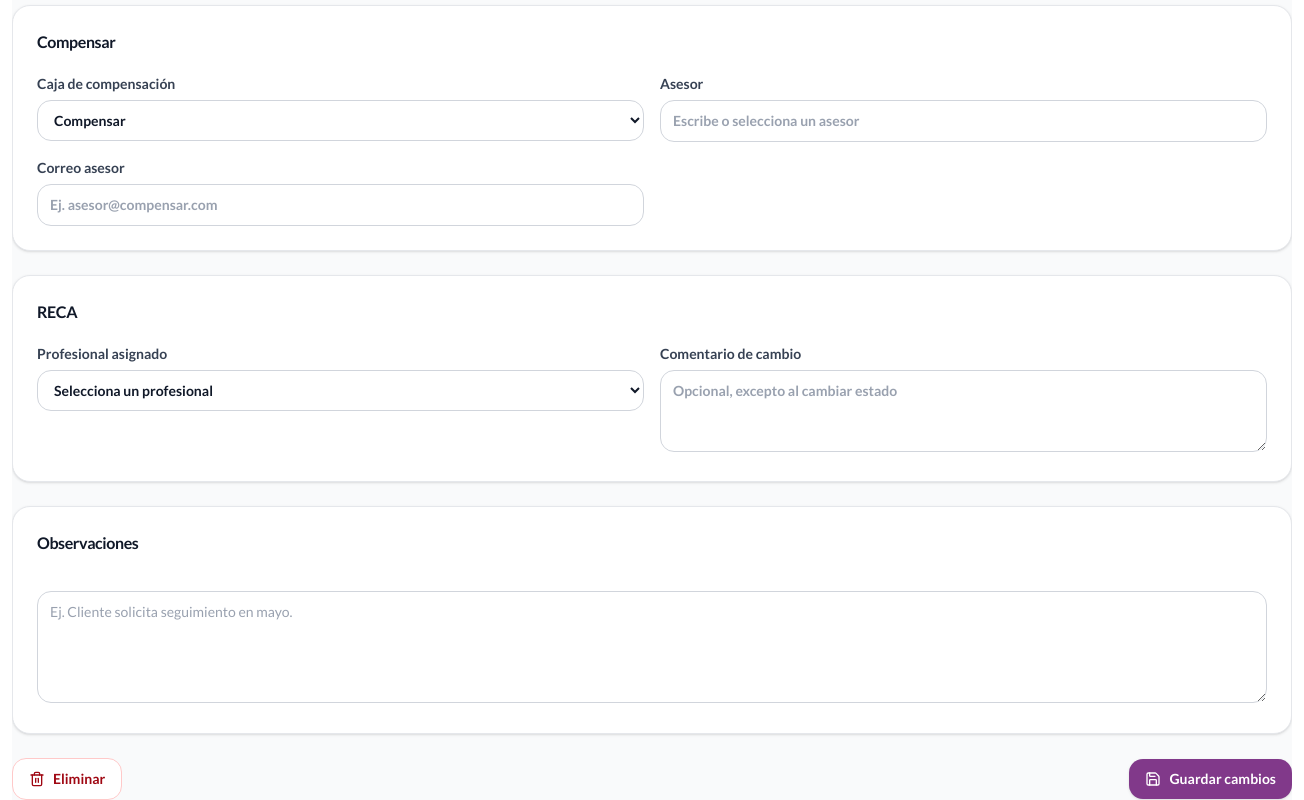
EmpresaForm › shows a non-blocking warning for incomplete legacy empresas in edit mode
(page scrolled)
In the text box named "Observaciones": x=652, y=647 [37,591,1267,703], type "Cliente solicita seguimiento."
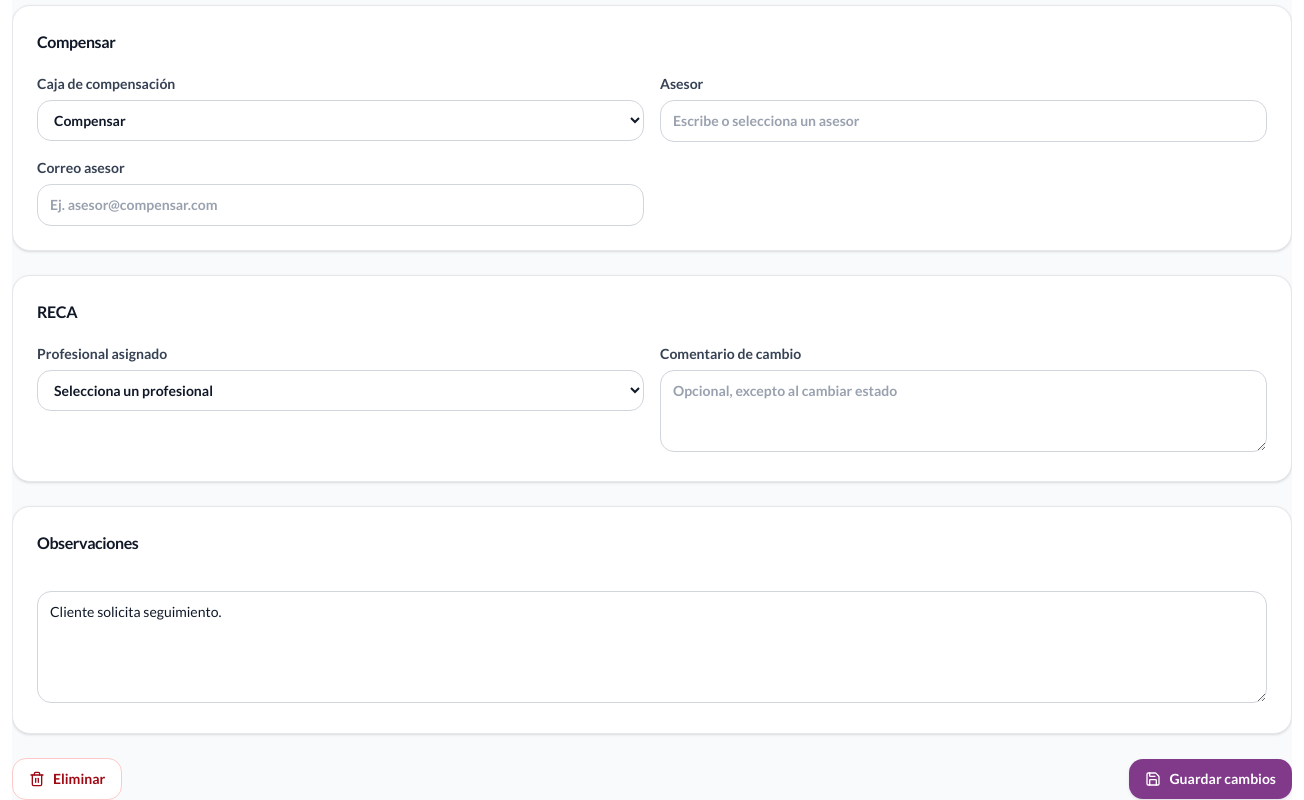
Click the button "Guardar cambios": x=1211, y=779 [1130,759,1292,799]
(page scrolled)
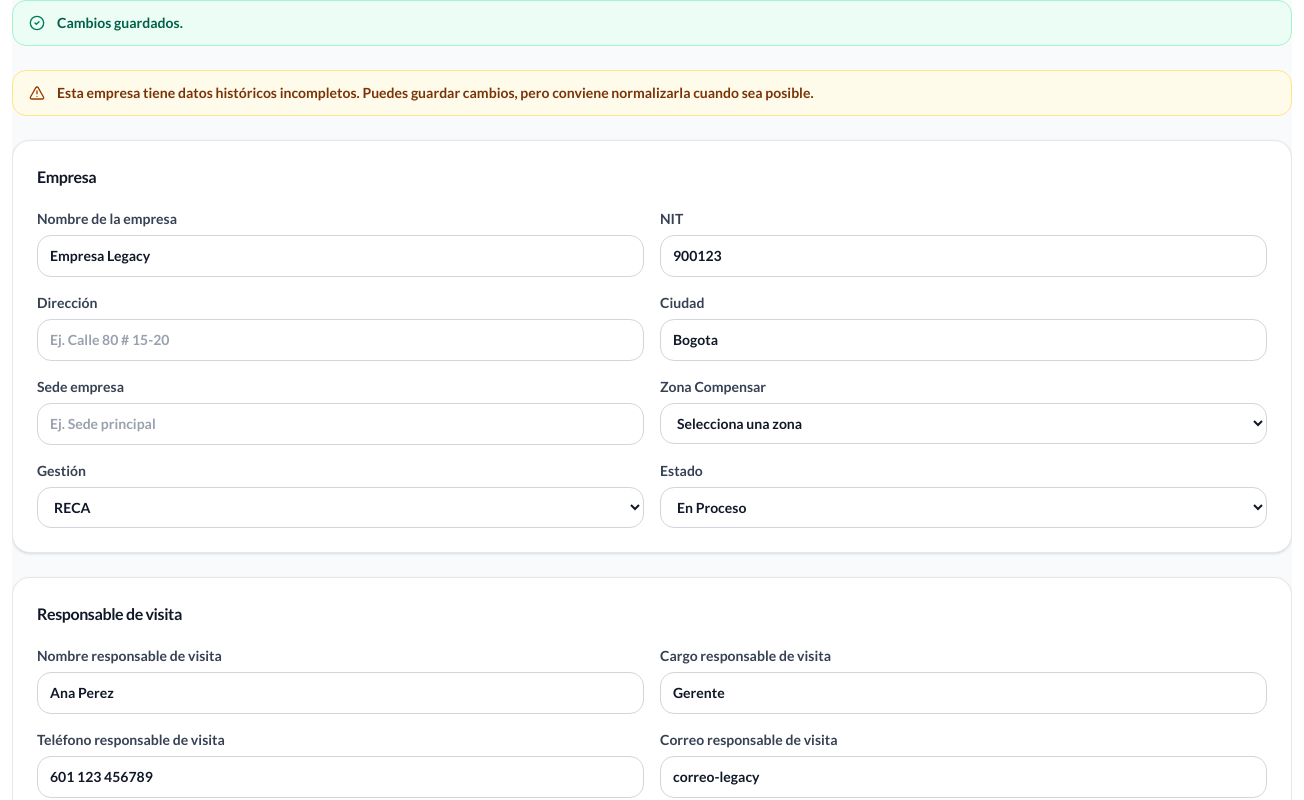
Now the text "Cambios guardados." is shown, box [57,13,183,33]
